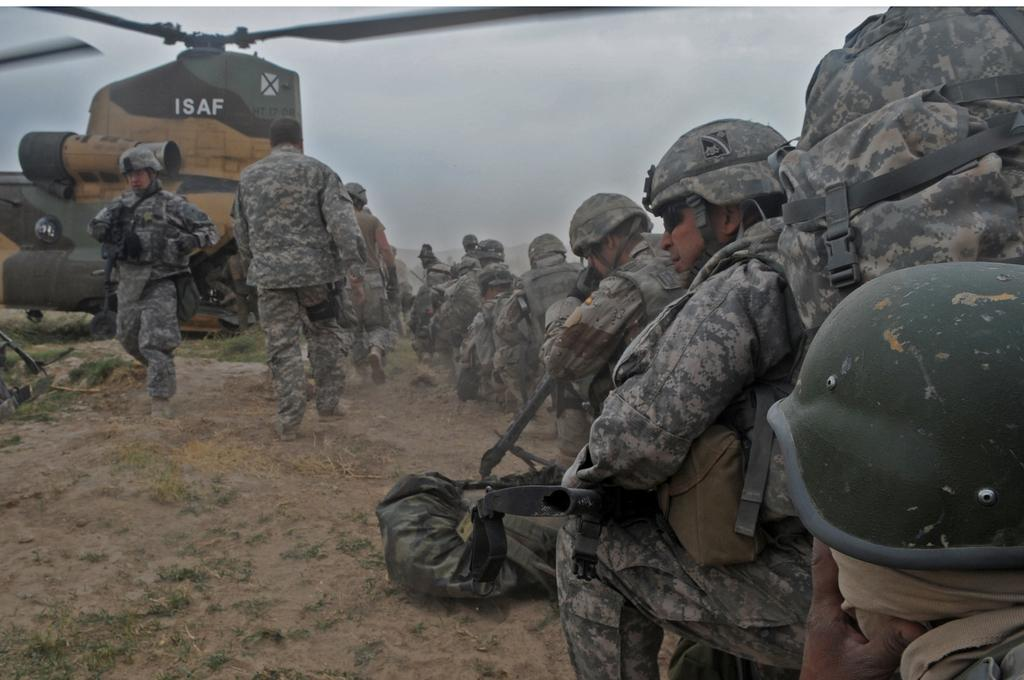non-violence: (558, 3, 1024, 680), (764, 260, 1024, 680), (229, 114, 367, 443), (538, 191, 692, 422), (92, 136, 195, 418), (488, 229, 588, 423), (460, 264, 536, 416), (422, 238, 512, 362), (346, 180, 400, 386), (424, 230, 482, 356), (412, 240, 444, 336)
weapon: (476, 369, 572, 472), (90, 198, 118, 310)
